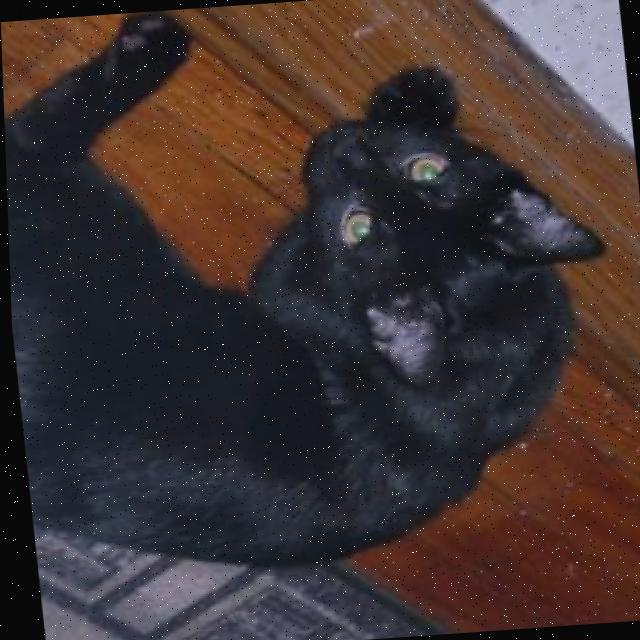Bombay: (0, 0, 637, 592)
